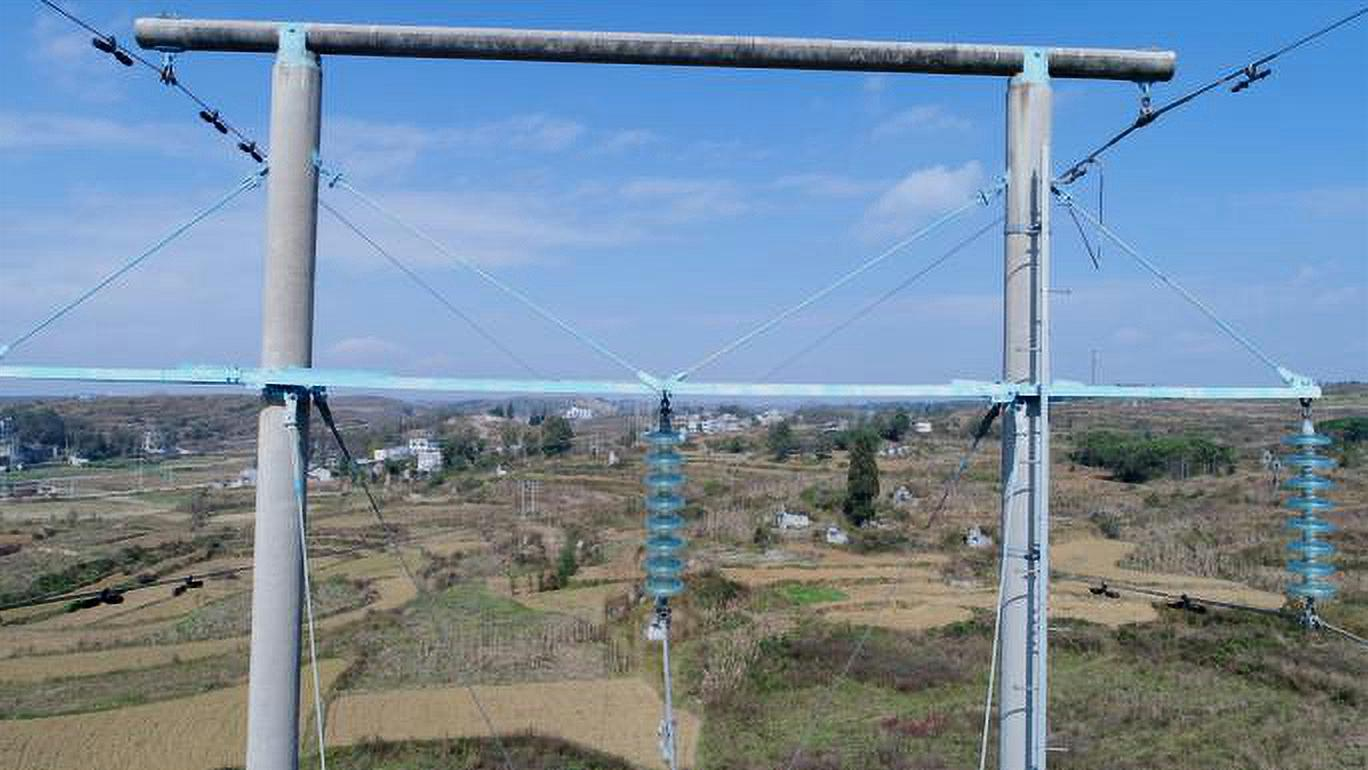insulator: (1273, 428, 1345, 608), (637, 423, 690, 600)
